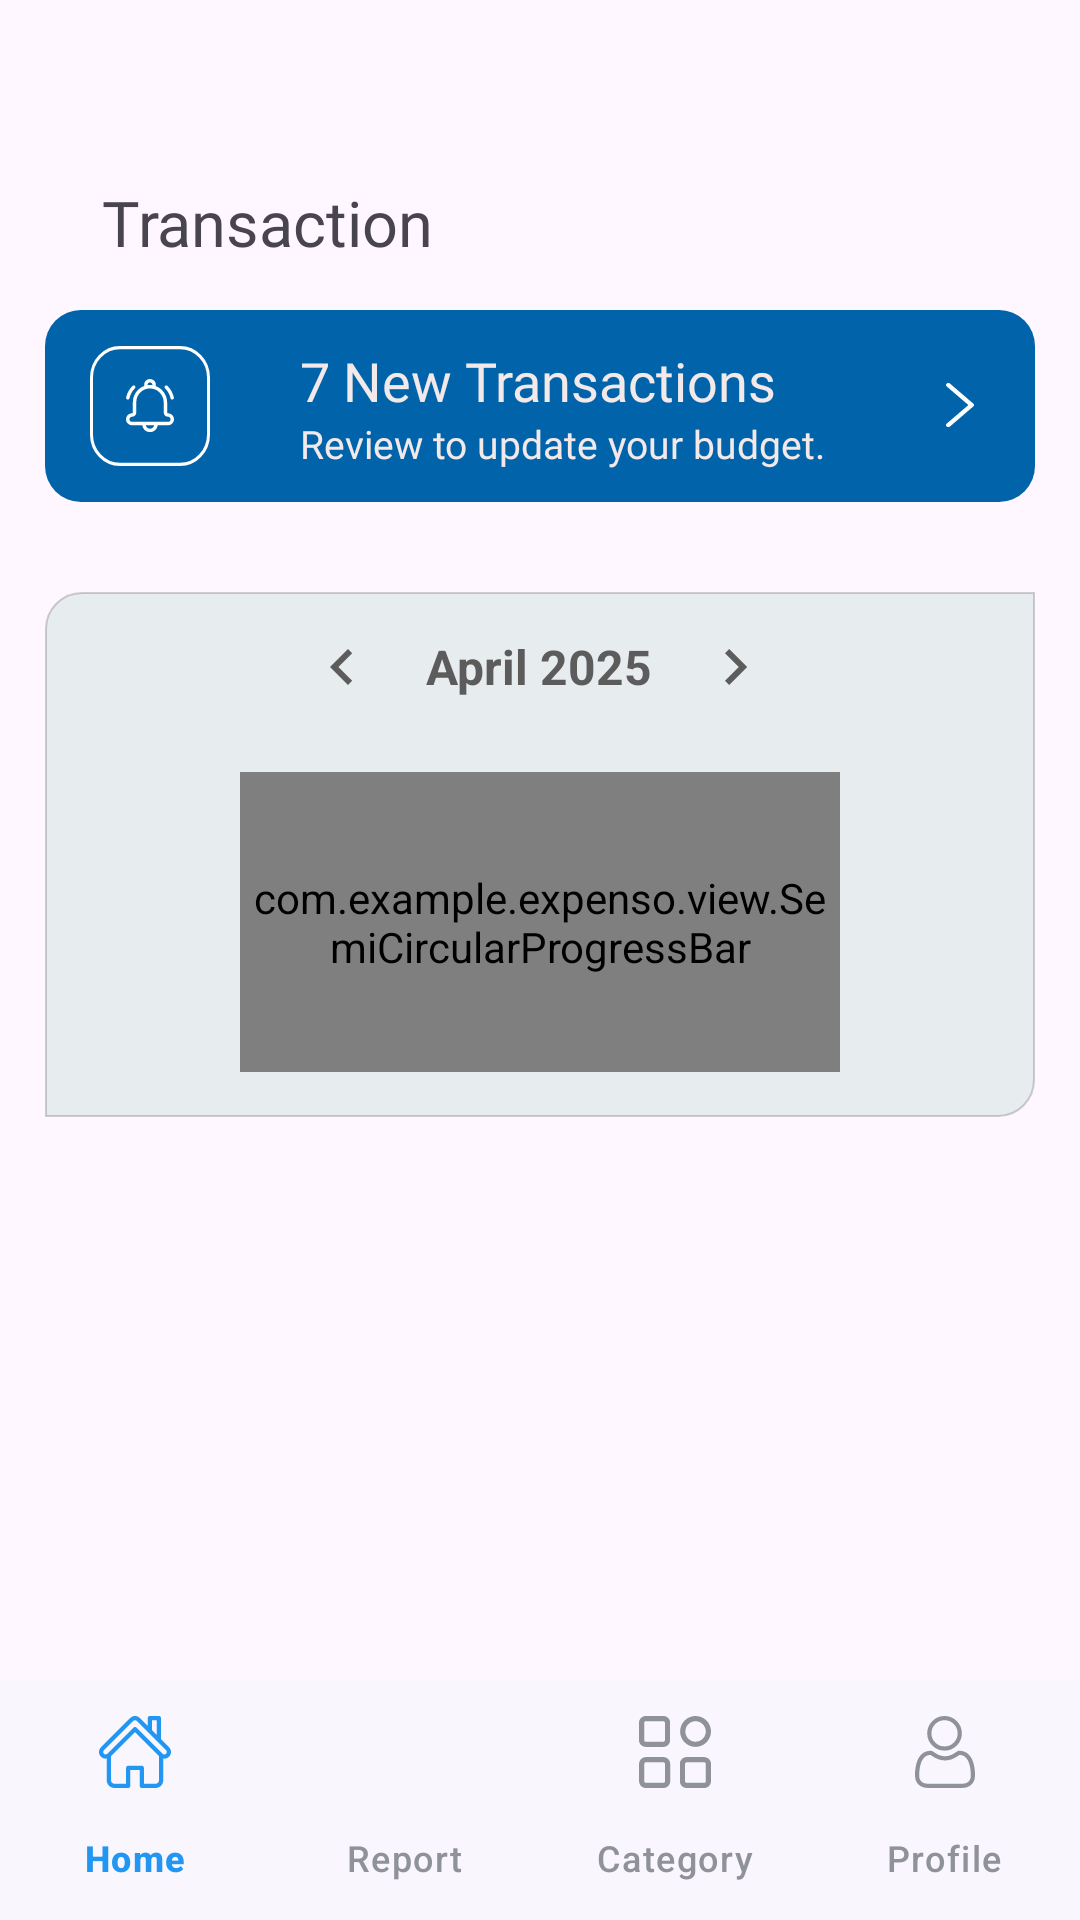

Where to tap for icons on this 1080x1920 app screen, as (x=x, y=y):
Next Month: (x=736, y=667)
Previous Month: (x=341, y=667)
